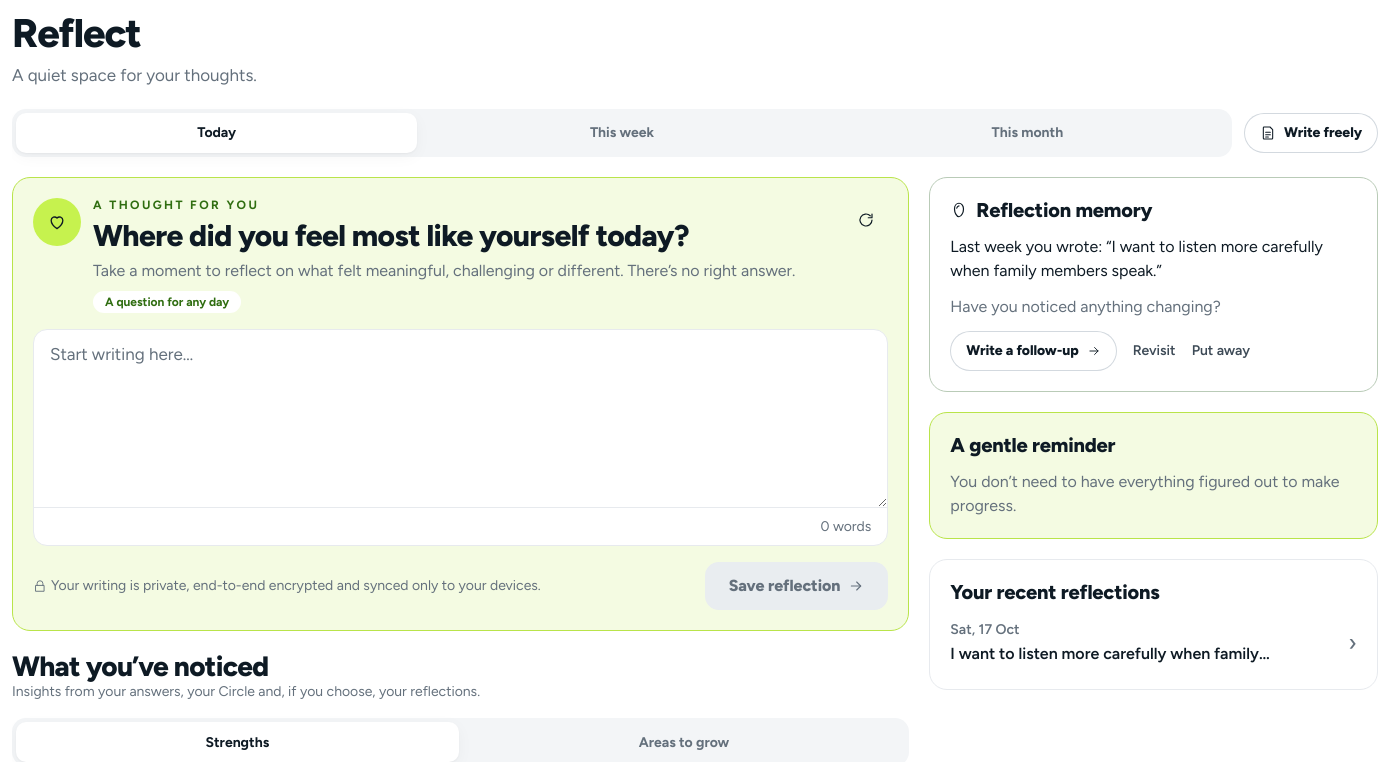
the Reflect page › brings back last week’s words, and a follow-up joins their thread
Check: the element "Reflection memory" shows "Last week you wrote: “I want to listen more carefully when family members speak.”", box x1=929 y1=177 x2=1378 y2=392
Click the button "Write a follow-up" at (1033, 351), box x1=950 y1=331 x2=1117 y2=371
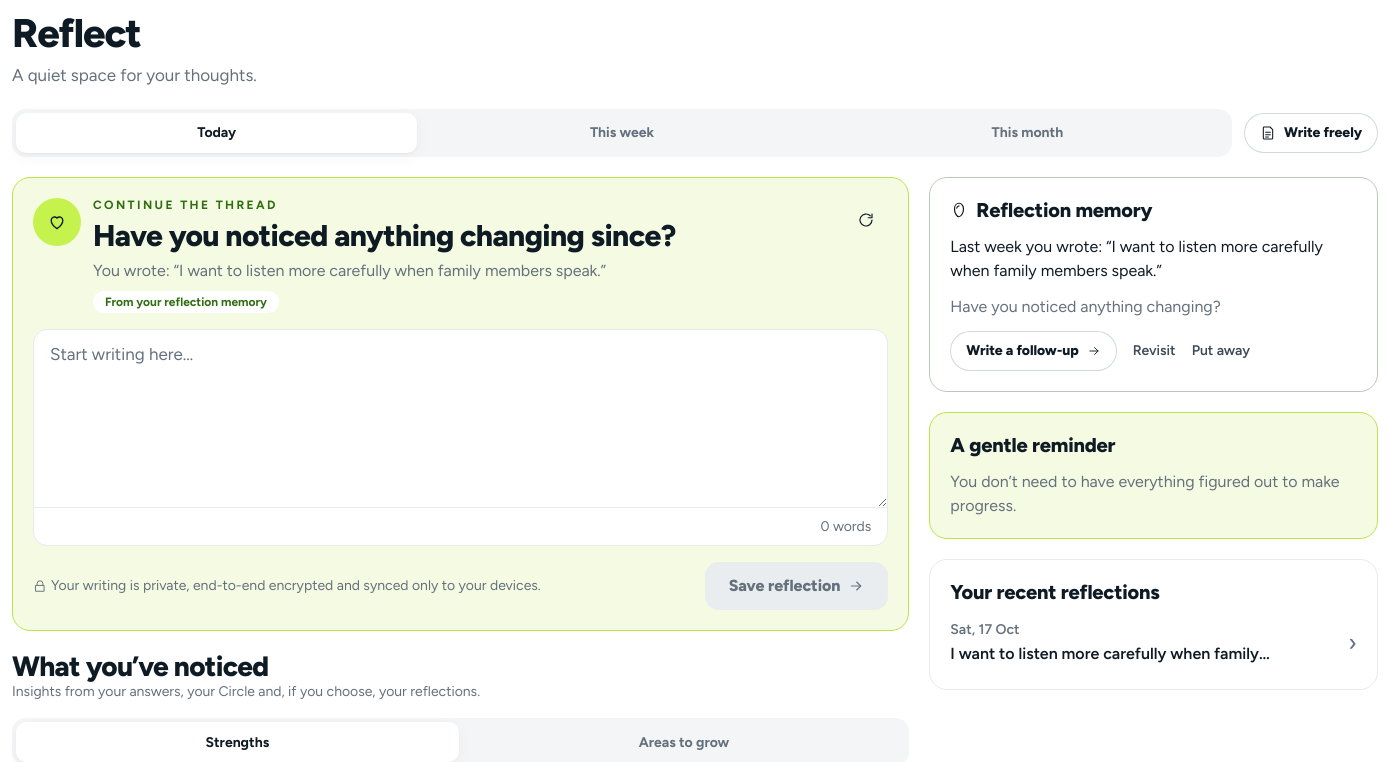
Check: the element "Have you noticed anything changing since?" shows "From your reflection memory", box x1=105 y1=295 x2=267 y2=309
Type "I let my brother finish twice this week." into the text box at (461, 418), box x1=34 y1=330 x2=887 y2=507
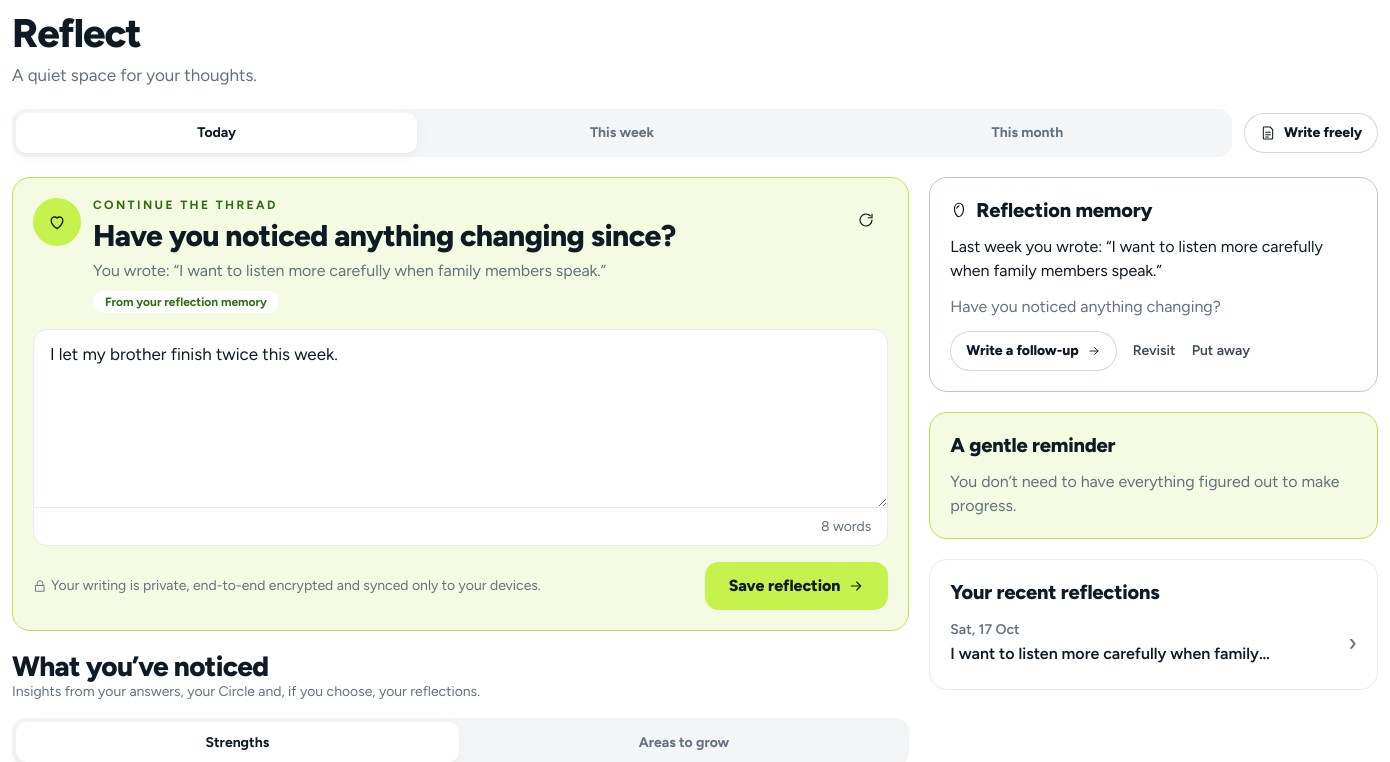
Click the button "Save reflection" at (797, 586), box x1=705 y1=562 x2=888 y2=610
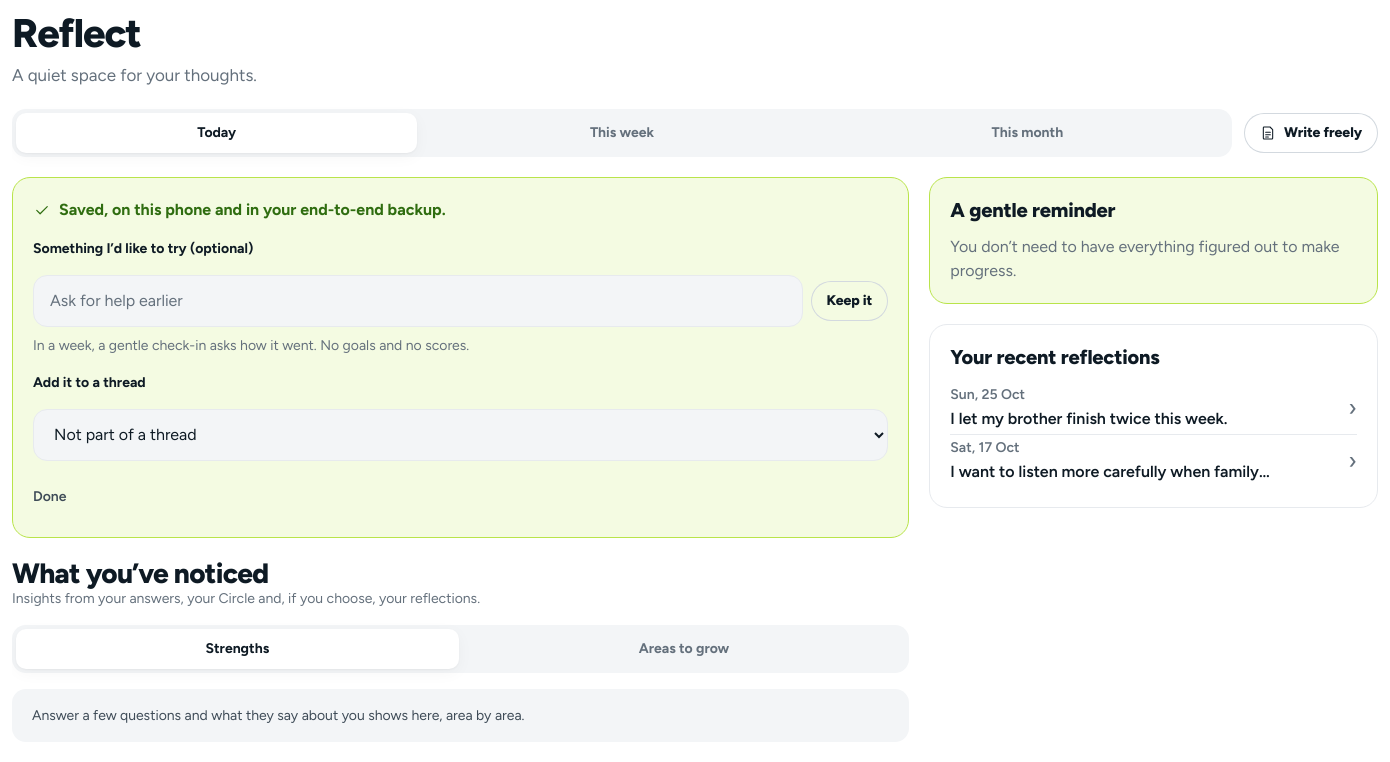
Check: the message "Saved, on this phone and in your end-to-end backup." is shown, box x1=33 y1=200 x2=446 y2=219
